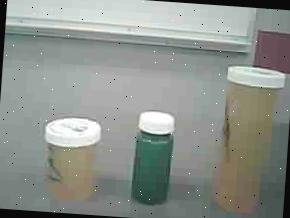Bottle A: (204, 53, 287, 218)
Bottle B: (35, 111, 106, 206)
Bottle C: (126, 104, 183, 216)
